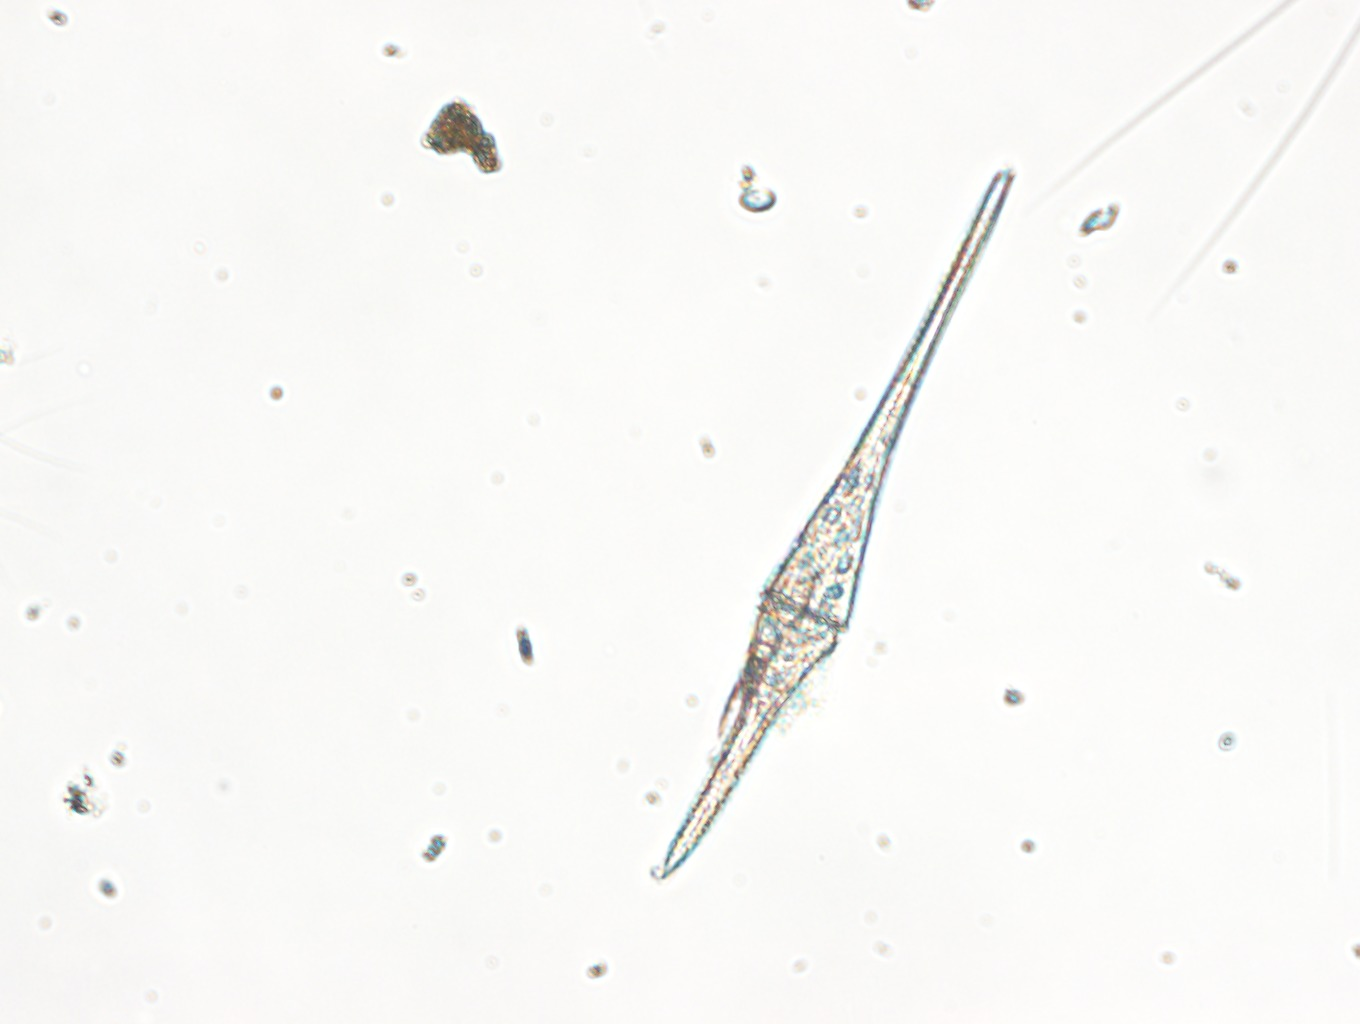ceratium furca: (647, 158, 1023, 881)
